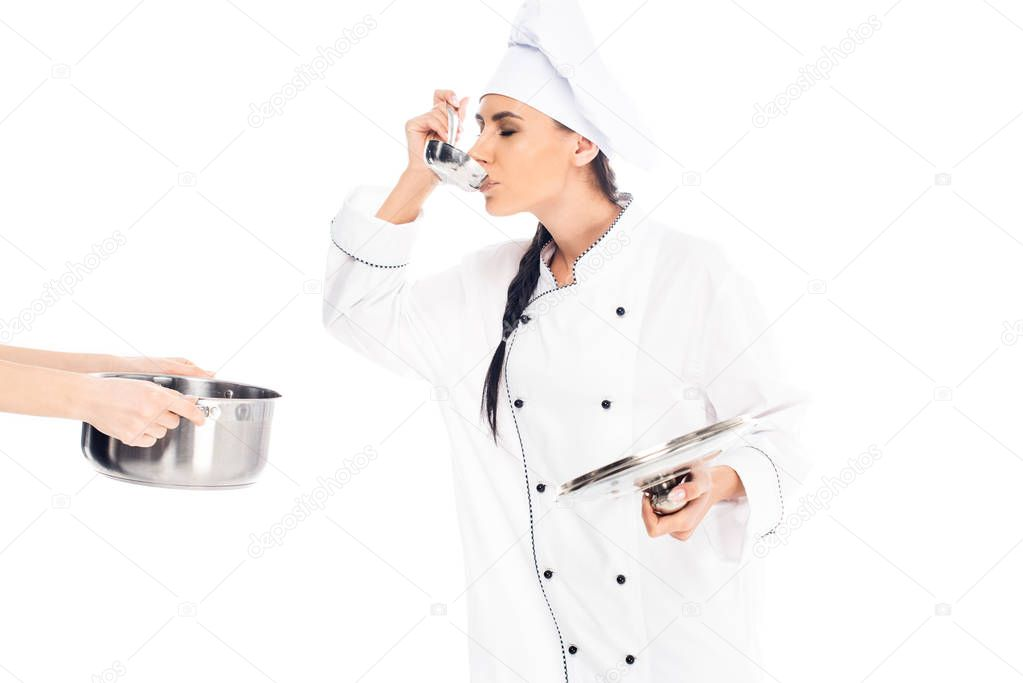eating: (355, 14, 745, 396)
